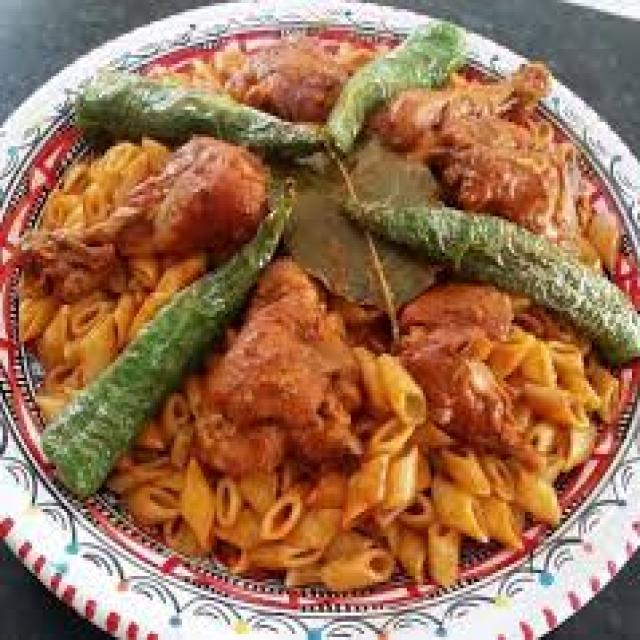Pasta: (5, 1, 640, 625)
